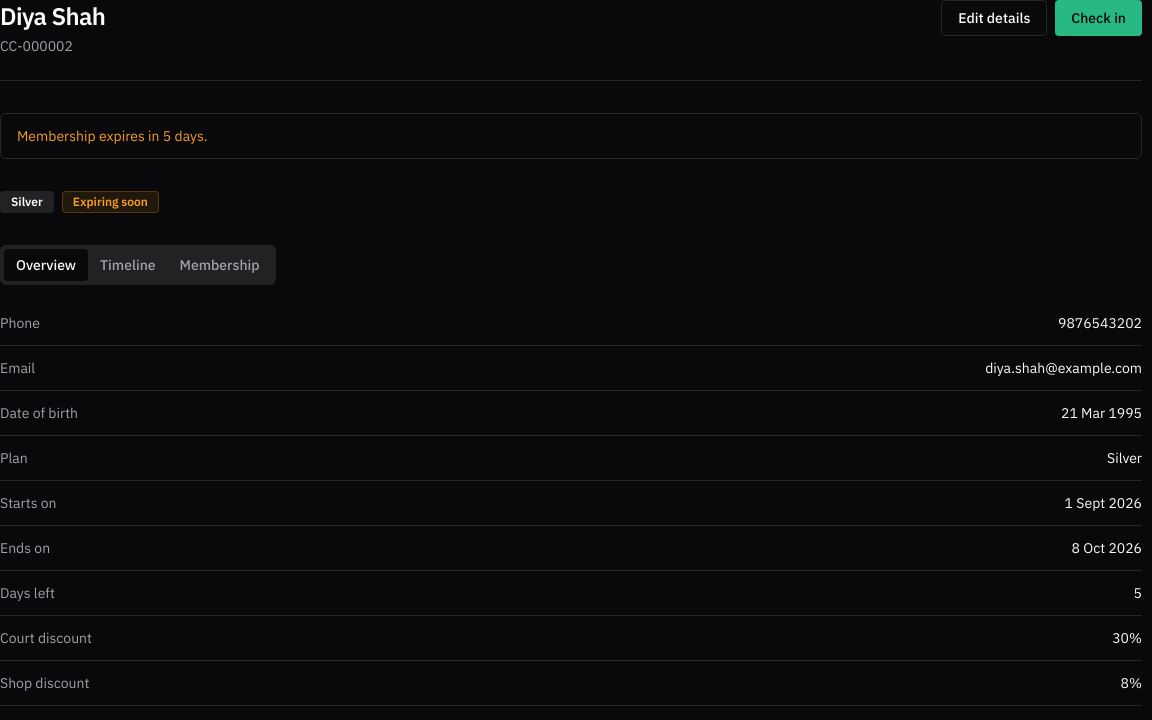
member profile › disables payment selection and confirmation while renewal is pending
The width and height of the screenshot is (1152, 720).
Press the mouse on the tab "Membership" at [220, 265], box left=168, top=249, right=272, bottom=281
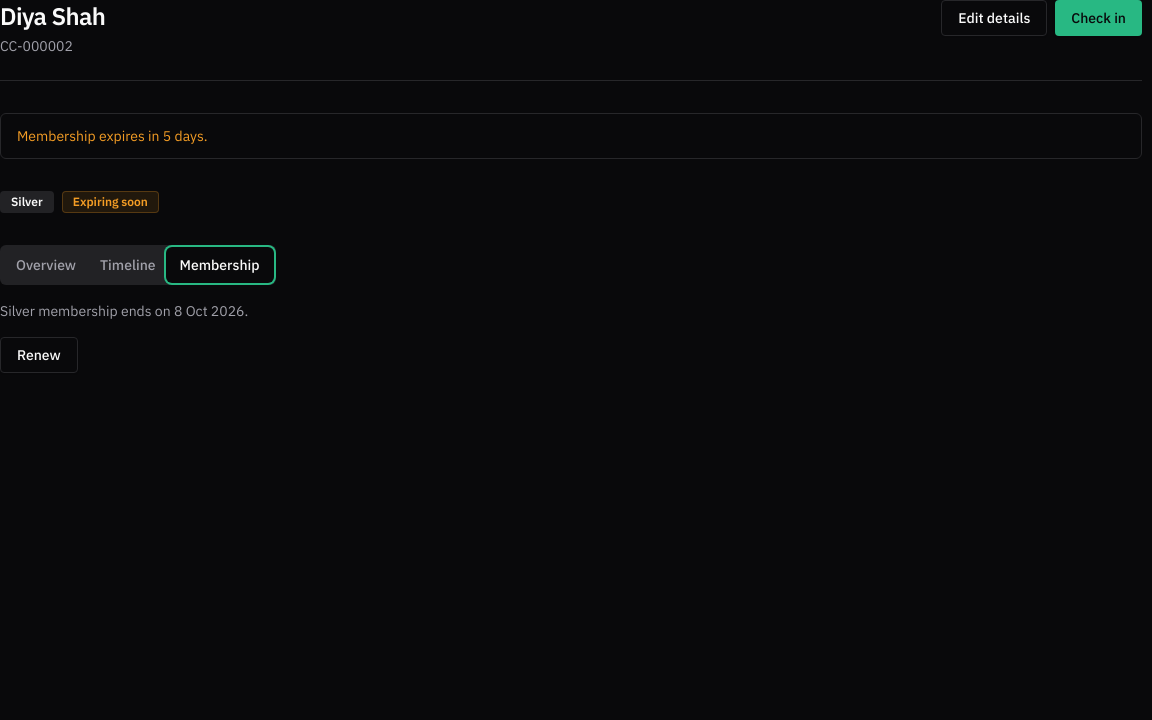
Click the button "Renew" at [39, 355], box left=0, top=337, right=78, bottom=373
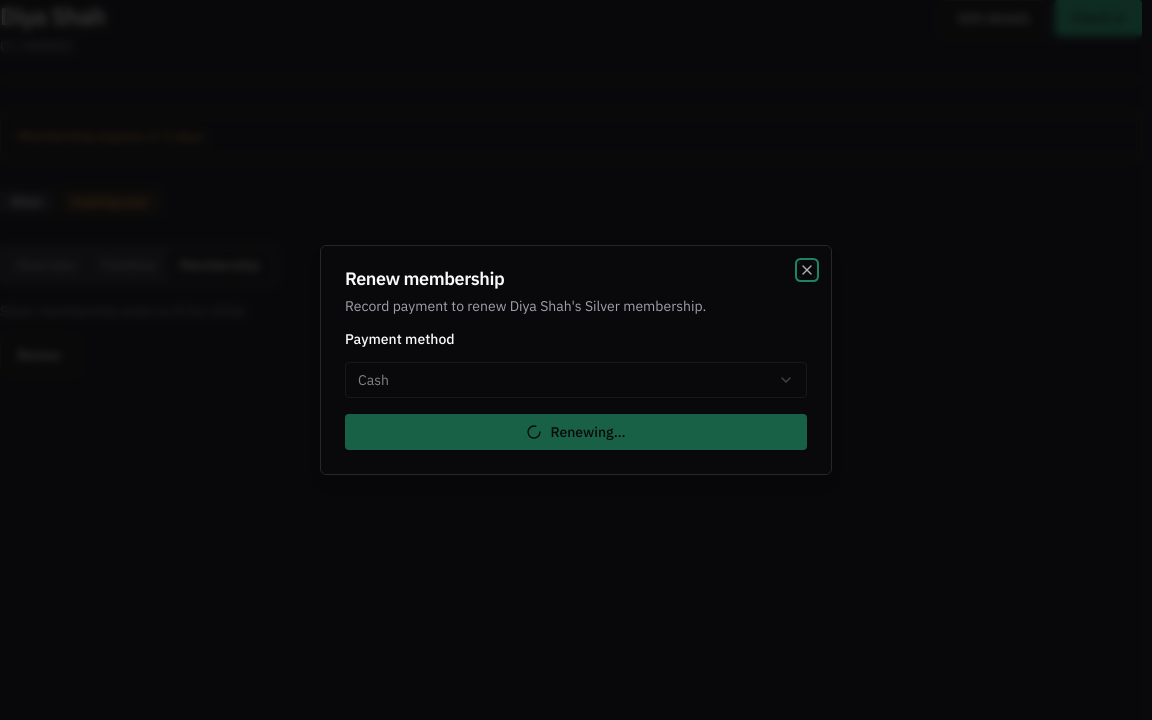
expect the dropdown named "Payment method" is disabled: met, box left=345, top=362, right=807, bottom=398
expect the button "Renewing…" is disabled: met, box left=345, top=414, right=807, bottom=450
